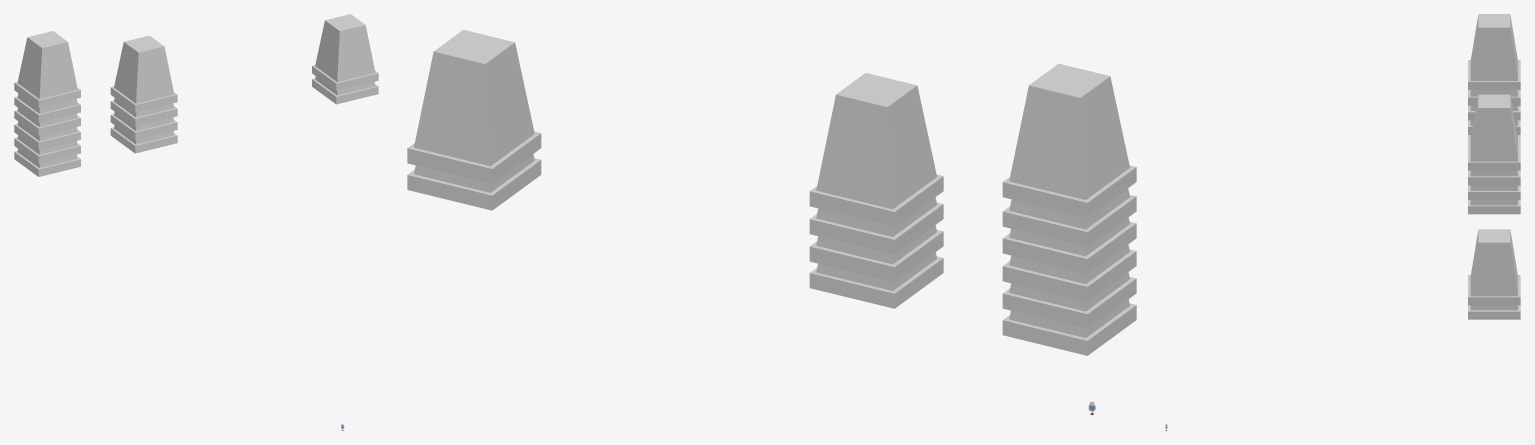
The model's file is Mannequin3.glb.
3 views of the same model, side by side, from view 1: azimuth 30°, elevation 25°; view 2: azimuth 150°, elevation 25°; view 3: azimuth 270°, elevation 25° (orthographic). The views are drawn at different scales.
Parts seen in each view (by area): view 1: SI_KitchenCounter_Cups; view 2: SI_KitchenCounter_Cups; view 3: SI_KitchenCounter_Cups.
Boxes of the visible parts, bbox=[...] form: SI_KitchenCounter_Cups: bbox=[14, 14, 378, 176]; SI_KitchenCounter_Cups: bbox=[407, 30, 1136, 355]; SI_KitchenCounter_Cups: bbox=[1468, 14, 1520, 319].
Size of the model in its own units: 1.59 by 1.4 by 1.34.
Materials: 2 (2 with a texture image).
